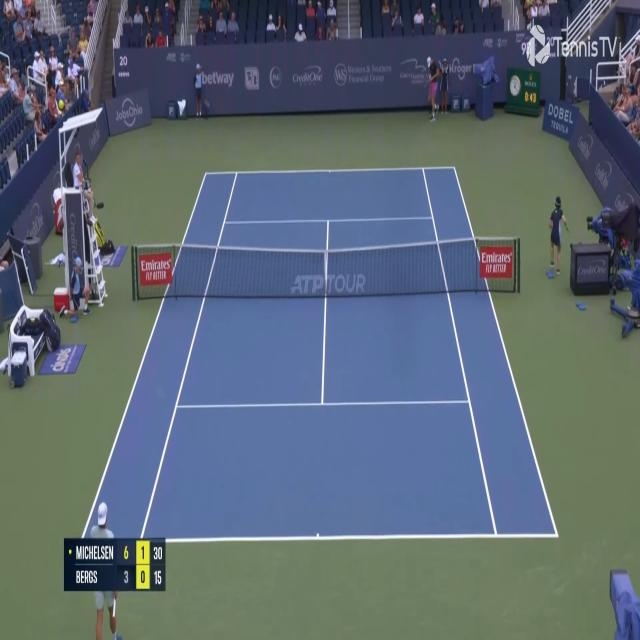tennis-player: (91, 496, 123, 639), (424, 47, 442, 126)
